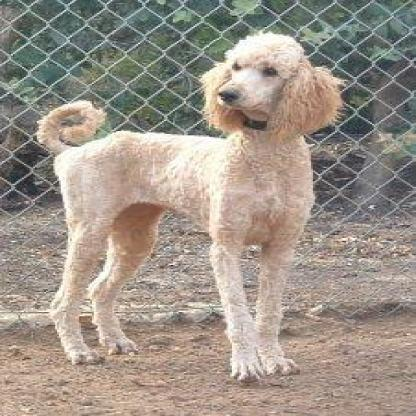standard_poodle: (37, 31, 346, 386)
